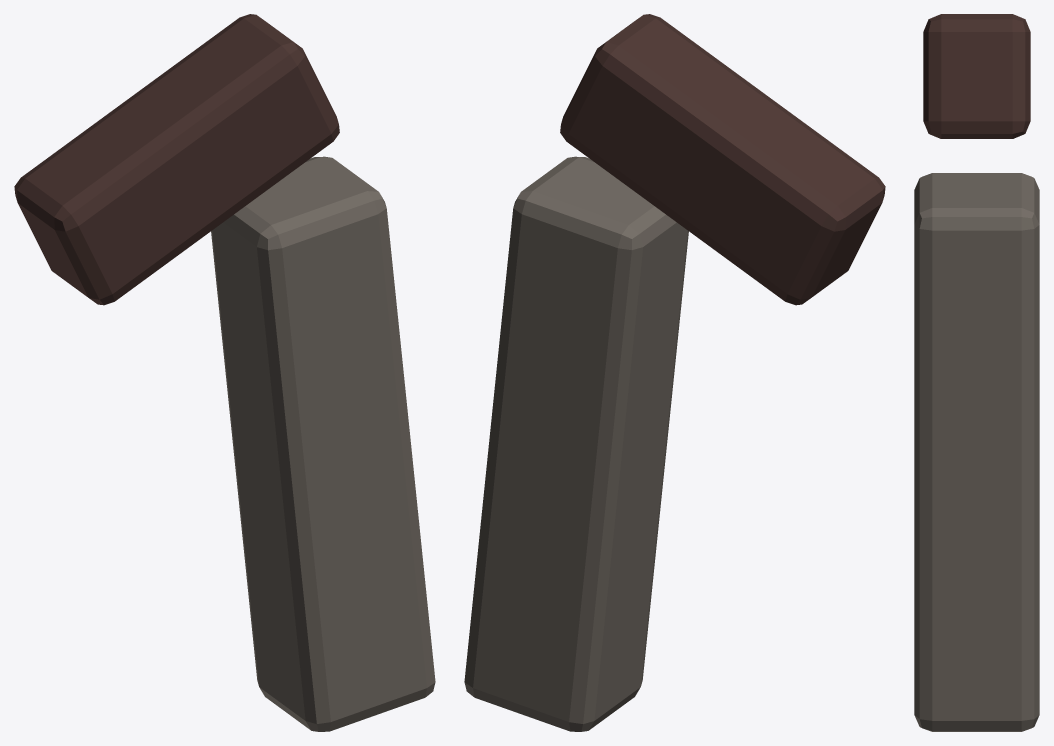
File: brute_leg.glb
3 renders of one model, left to right at view 1: azimuth 30°, elevation 25°; view 2: azimuth 150°, elevation 25°; view 3: azimuth 270°, elevation 25°, orthographic. The views are drawn at different scales.
Parts seen in each view (by area): view 1: Cube.001, Cube; view 2: Cube.001, Cube; view 3: Cube.001, Cube.
Boxes of the visible parts, bbox=[...] form: Cube.001: bbox=[211, 156, 435, 731]; Cube: bbox=[14, 14, 339, 305]; Cube.001: bbox=[464, 156, 688, 731]; Cube: bbox=[560, 14, 885, 305]; Cube.001: bbox=[914, 173, 1039, 731]; Cube: bbox=[923, 14, 1030, 138].
Size of the model in its own units: 0.4657 by 0.8221 by 0.14.
